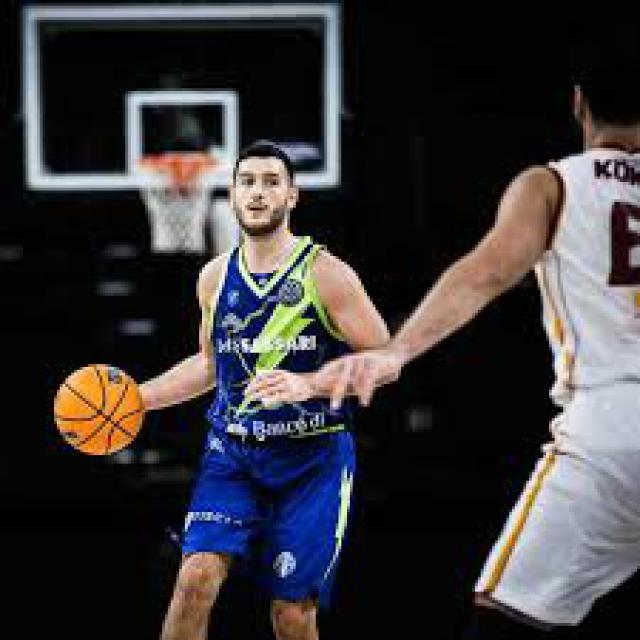basketball: (51, 364, 142, 458)
rim: (131, 156, 225, 176)
